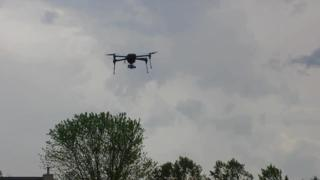UAV: (105, 51, 159, 75)
